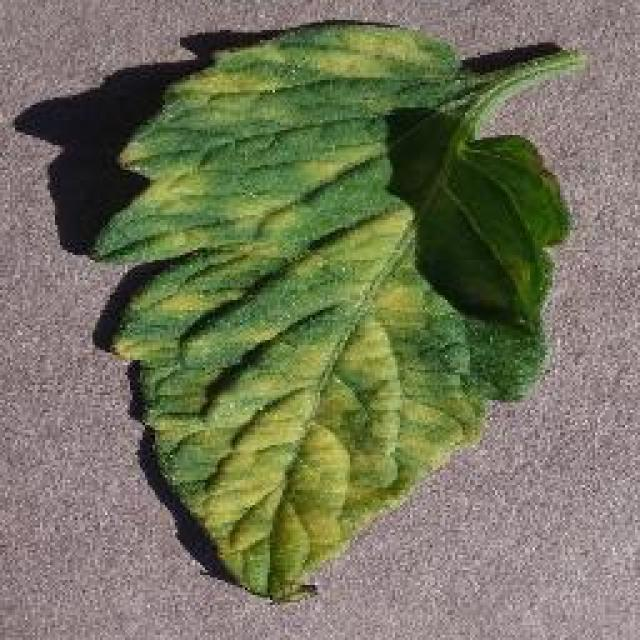leaf mold: (83, 23, 587, 600)
